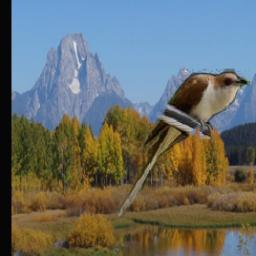Cuckoo: (115, 70, 249, 219)
